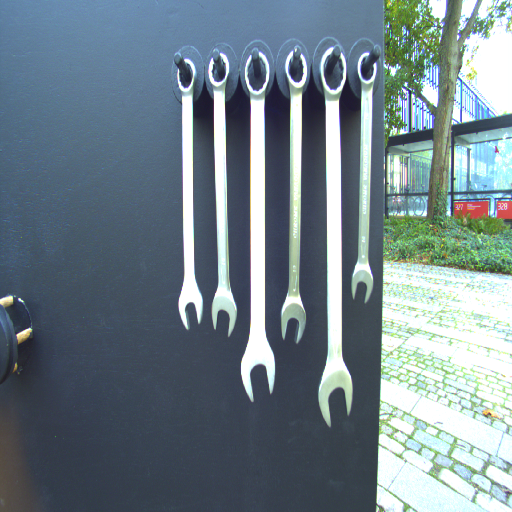bottom: (315, 361, 356, 432), (240, 340, 276, 407), (175, 284, 206, 332), (279, 290, 307, 343), (210, 289, 240, 338), (349, 262, 375, 306)
top: (319, 45, 348, 100), (243, 48, 271, 100), (283, 47, 309, 91), (174, 55, 200, 97), (357, 47, 380, 91), (207, 51, 231, 93)
